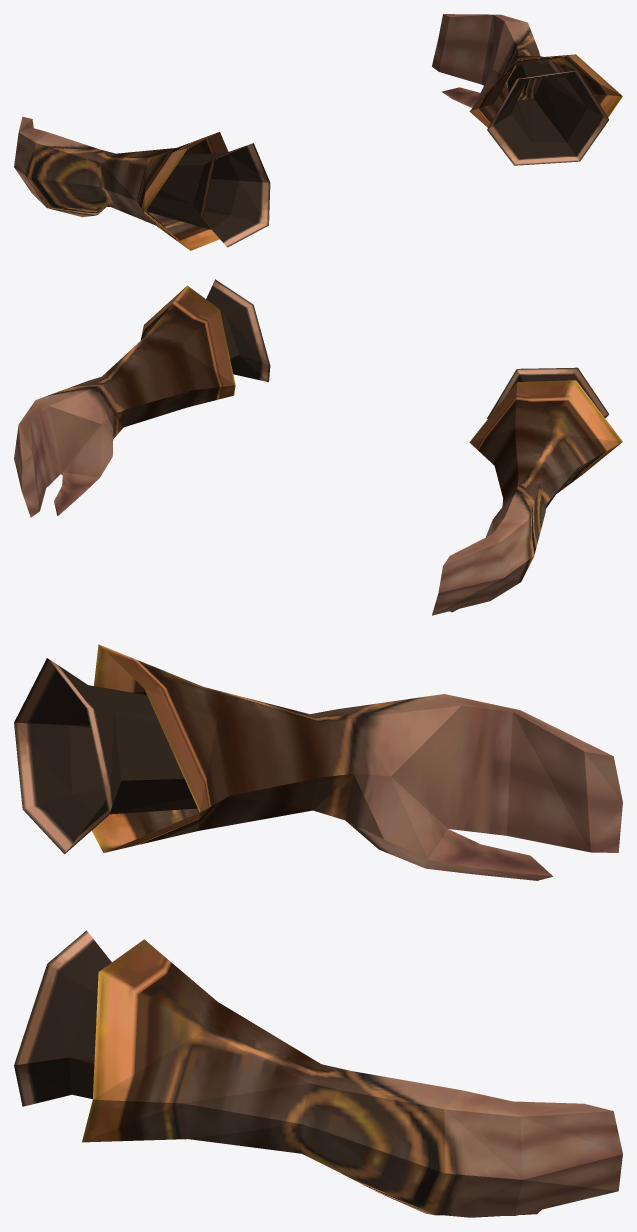
File: taoist_glove_female_38050.obj
3 views of the same model, one above another, from view 1: azimuth 30°, elevation 25°; view 2: azimuth 150°, elevation 25°; view 3: azimuth 270°, elevation 25° (orthographic). The views are drawn at different scales.
Visible parts, largest first — view 1: taoist_glove_female_38050; view 2: taoist_glove_female_38050; view 3: taoist_glove_female_38050.
Part boxes in pixels (box(x1,y1,x2,y2)): taoist_glove_female_38050: box(14, 14, 622, 250); taoist_glove_female_38050: box(14, 279, 622, 615); taoist_glove_female_38050: box(14, 644, 622, 1217).
Bounding box in the file's own units: 30.09 × 7.88 × 18.16.
1 material, 1 textured.
